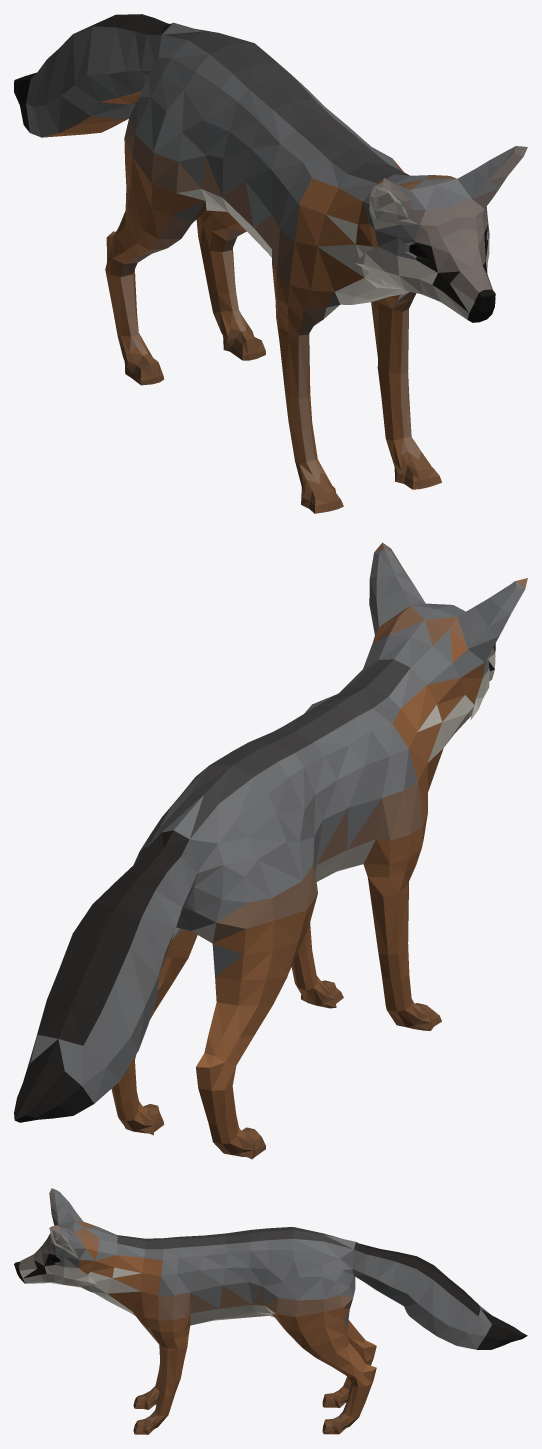
Rendered from fox.glb.
3 renders of one model, top to bottom at view 1: azimuth 30°, elevation 25°; view 2: azimuth 150°, elevation 25°; view 3: azimuth 270°, elevation 25°, orthographic. The views are drawn at different scales.
Parts seen in each view (by area): view 1: lod0; view 2: lod0; view 3: lod0.
Part boxes in pixels (x1,y1,x2,y2): lod0: [14, 14, 527, 513]; lod0: [14, 542, 527, 1159]; lod0: [14, 1188, 527, 1434].
Size of what is drawn, in the model's own units: 0.1818 by 0.4354 by 0.9614.
